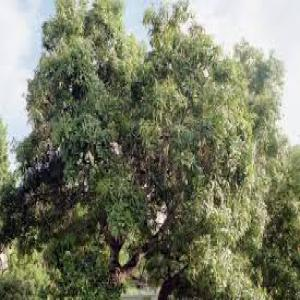Tree: (18, 3, 289, 295)
